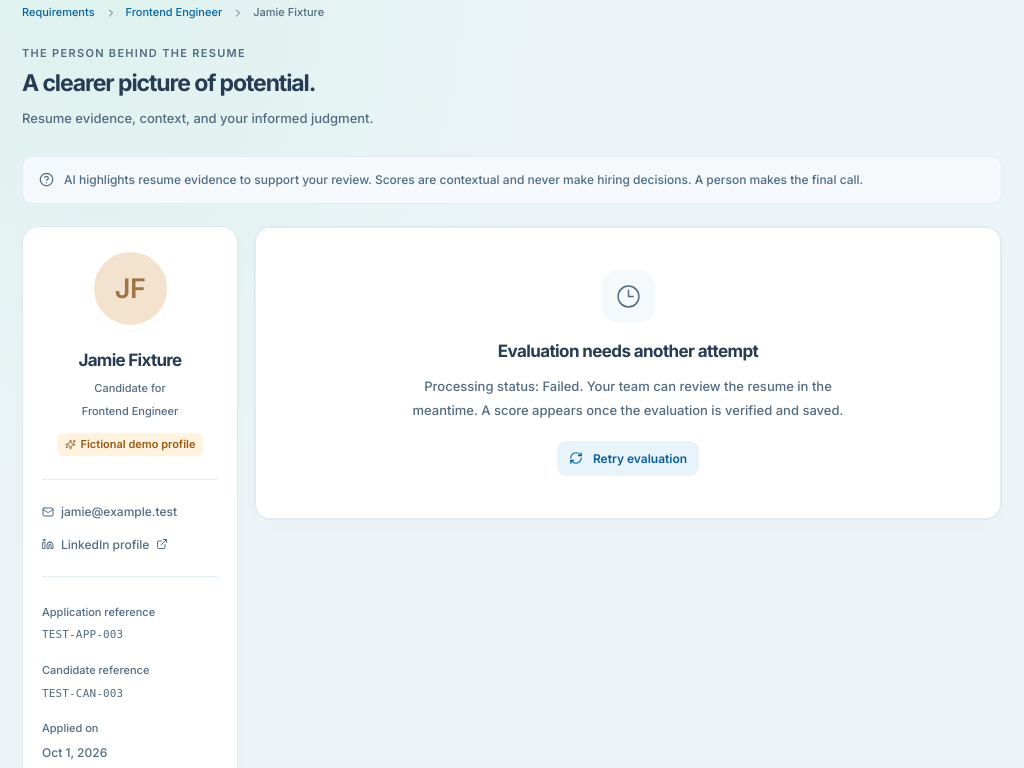
candidate evidence review › keeps retry available and shows a retry request failure to HR
What coordinates should you click on to do the following:
click the button "Retry evaluation"
I would click on:
 (628, 458)
Its box is [557,441,699,476].
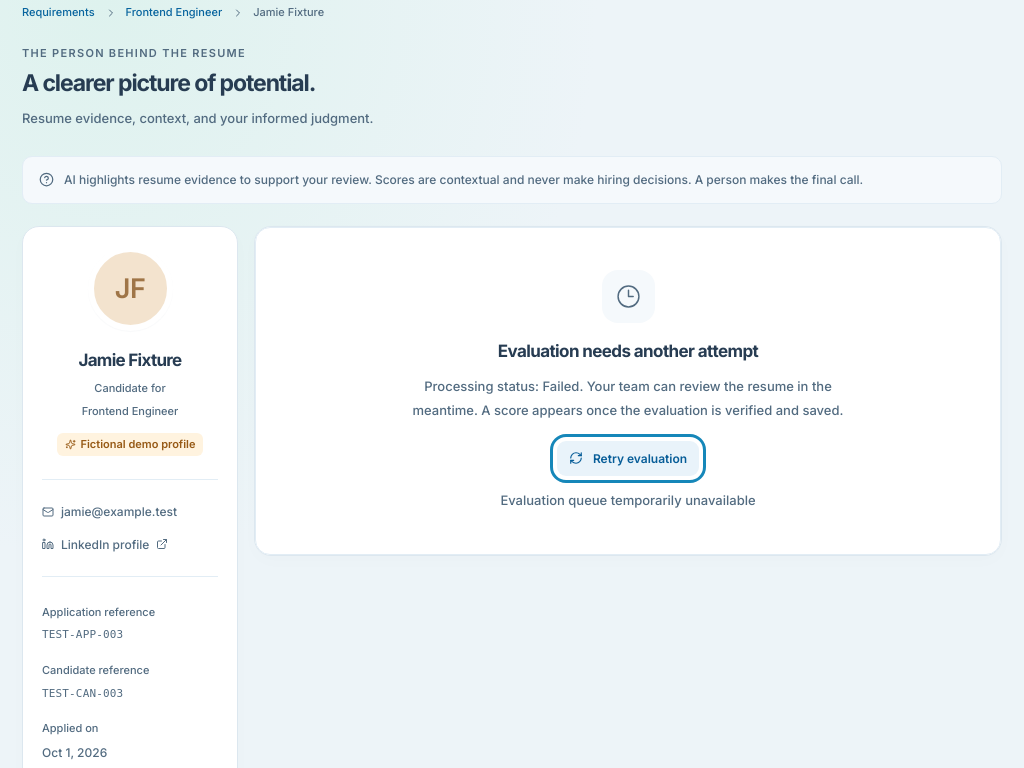
Now the message reads "Evaluation queue temporarily unavailable", box [500,492,756,508]
